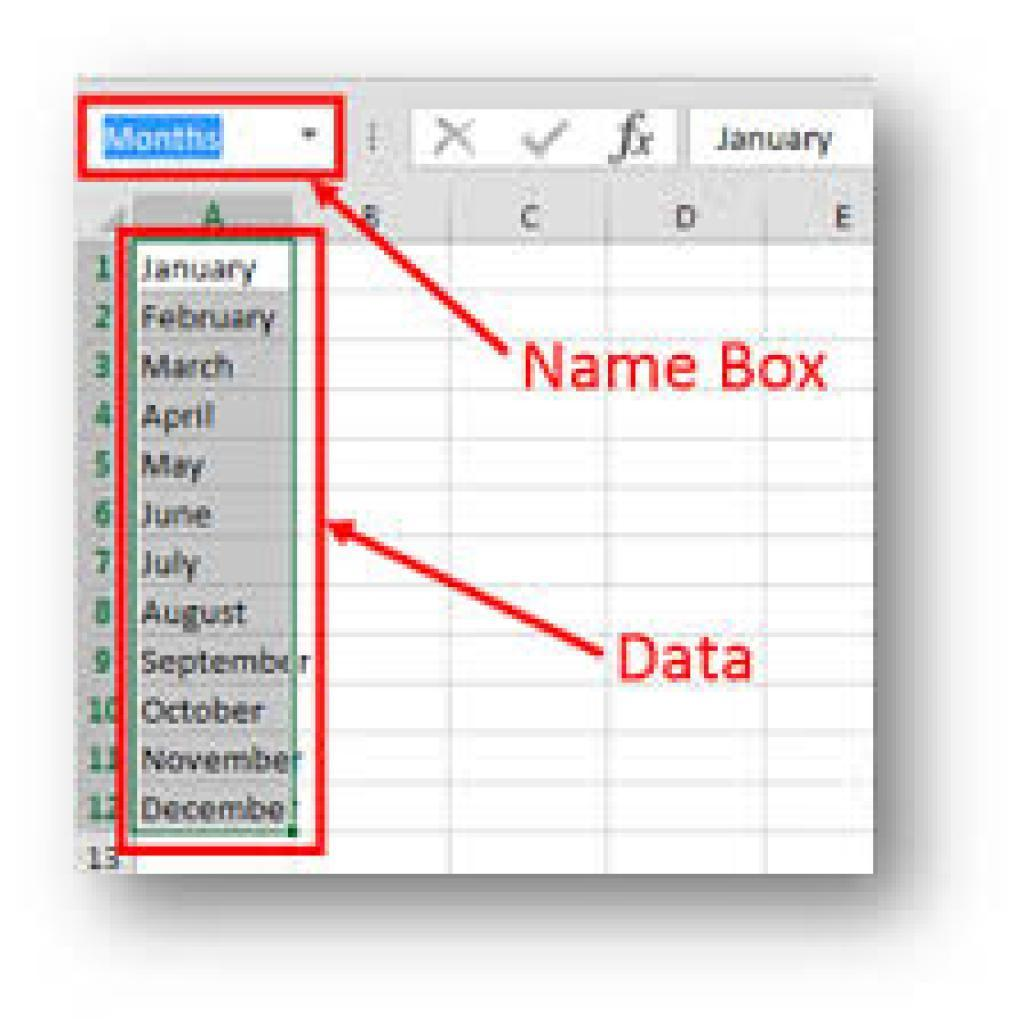dropdown: (77, 96, 345, 182)
table: (77, 70, 889, 887)
